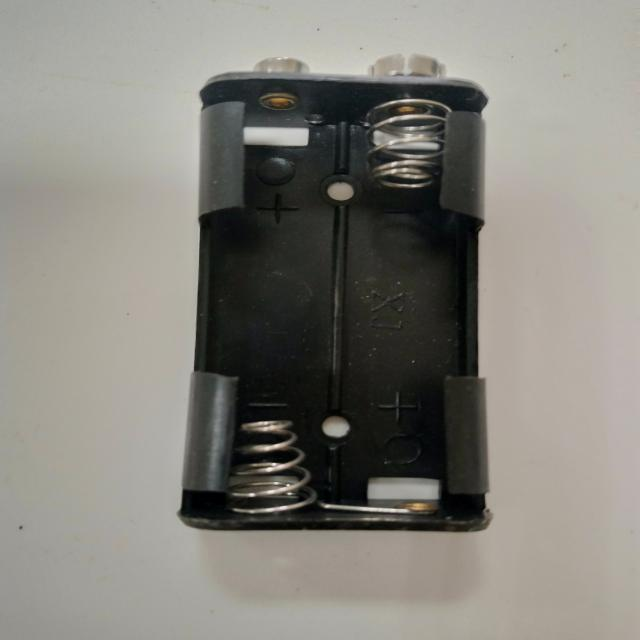Ripple Tank Power Supply: (145, 39, 532, 549)
